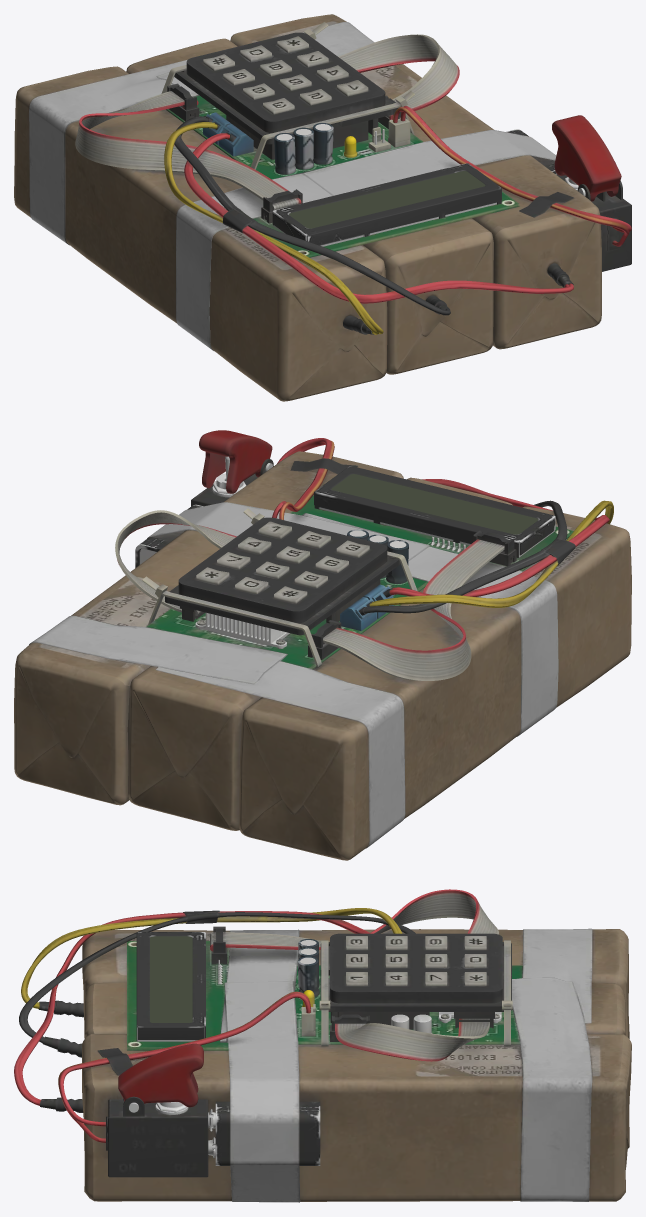
3 renders of one model, top to bottom at view 1: azimuth 30°, elevation 25°; view 2: azimuth 150°, elevation 25°; view 3: azimuth 270°, elevation 25°, orthographic. The views are drawn at different scales.
Parts seen in each view (by area): view 1: weapon_c4.vmdl_c.body_hd, weapon_c4.vmdl_c.c4_screen; view 2: weapon_c4.vmdl_c.body_hd, weapon_c4.vmdl_c.c4_screen; view 3: weapon_c4.vmdl_c.body_hd, weapon_c4.vmdl_c.c4_screen.
Part boxes in pixels (x1=…): weapon_c4.vmdl_c.body_hd: x1=14, y1=14, x2=631, y2=401; weapon_c4.vmdl_c.c4_screen: x1=289, y1=171, x2=485, y2=228; weapon_c4.vmdl_c.body_hd: x1=14, y1=430, x2=631, y2=860; weapon_c4.vmdl_c.c4_screen: x1=331, y1=474, x2=538, y2=534; weapon_c4.vmdl_c.body_hd: x1=14, y1=889, x2=631, y2=1202; weapon_c4.vmdl_c.c4_screen: x1=150, y1=936, x2=192, y2=1022.
Size of the model in its own units: 0.1893 by 0.0832 by 0.2678.
Materials: 2 (2 with a texture image).
